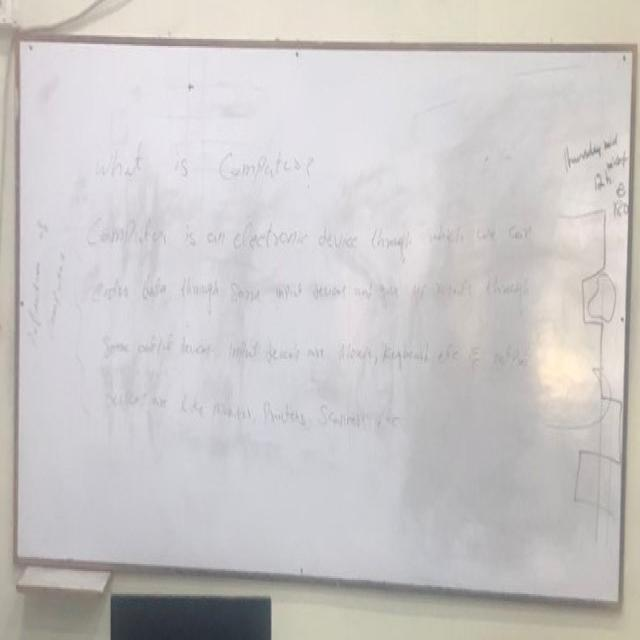White-board: (18, 40, 634, 606)
